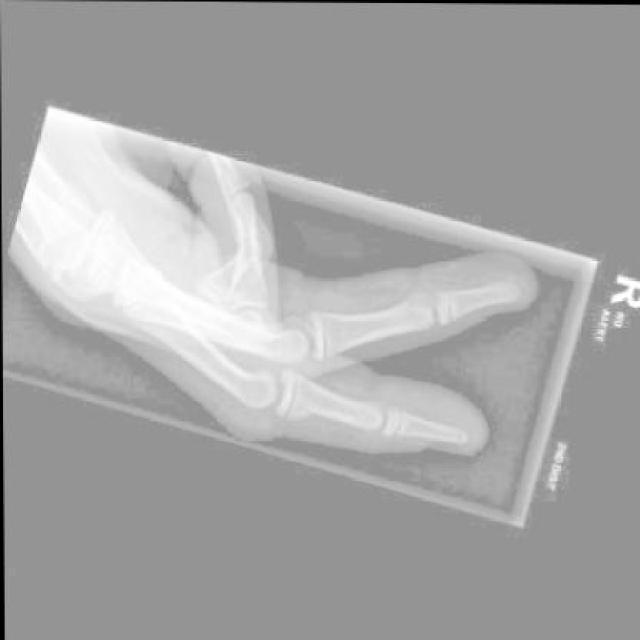Fracture: (283, 396, 320, 427)
